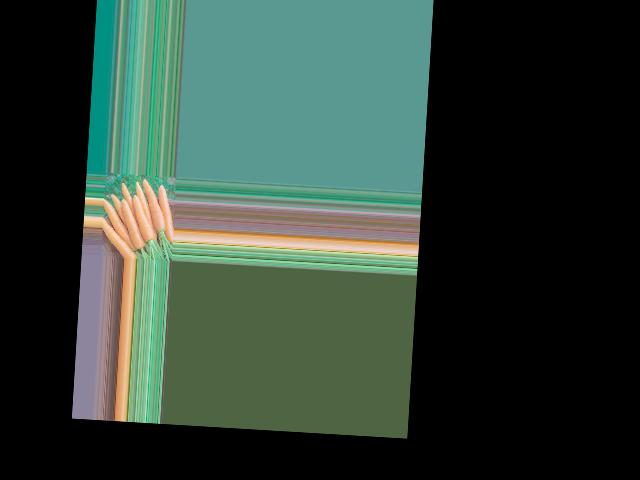carrot: (99, 211, 142, 258)
